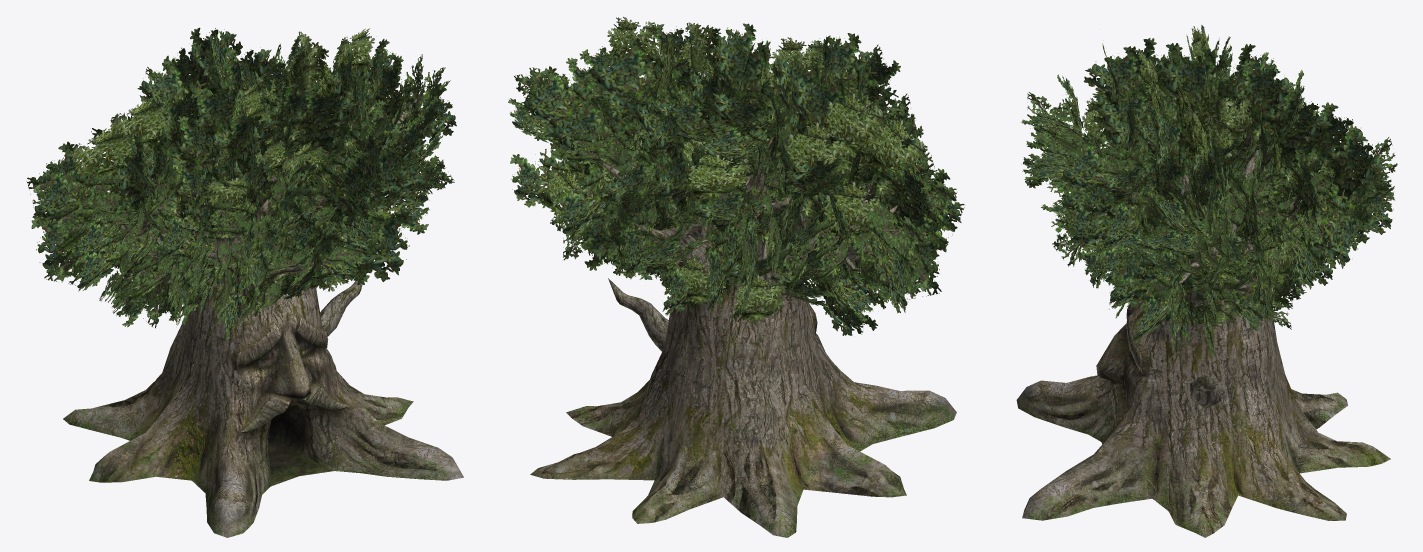
The model's file is great_deku_tree__hyrule_warriors.glb.
3 views of the same model, side by side, from view 1: azimuth 30°, elevation 25°; view 2: azimuth 150°, elevation 25°; view 3: azimuth 270°, elevation 25° (orthographic). The views are drawn at different scales.
Visible parts, largest first — view 1: material_0-material; view 2: material_0-material; view 3: material_0-material.
Part boxes in pixels (left/top/right/bottom): material_0-material: left=26, top=27, right=463, bottom=537; material_0-material: left=508, top=17, right=964, bottom=537; material_0-material: left=1016, top=25, right=1397, bottom=537.
Size of the model in its own units: 1409 by 1199 by 1060.
Materials: 1 (1 with a texture image).
